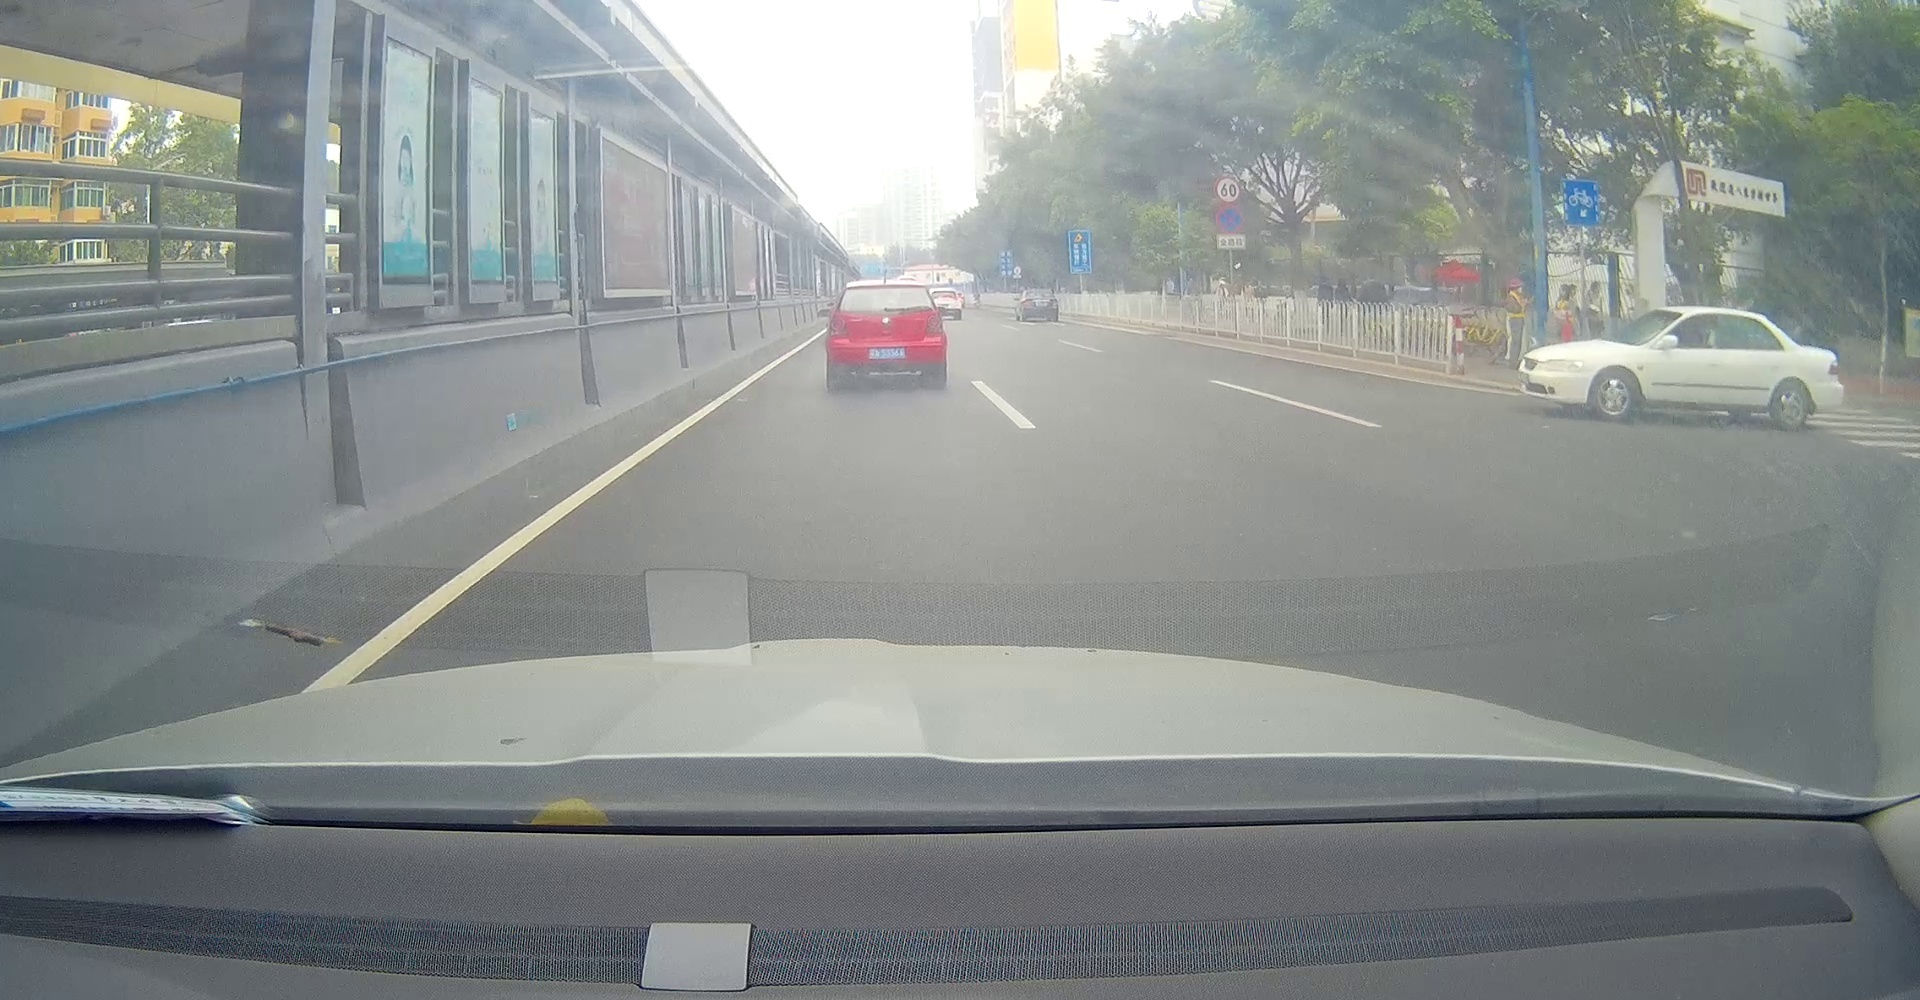L_light: (829, 315, 844, 332)
R_light: (926, 313, 943, 330)
T_light: (877, 286, 897, 291)
day-no: (827, 280, 947, 391)
